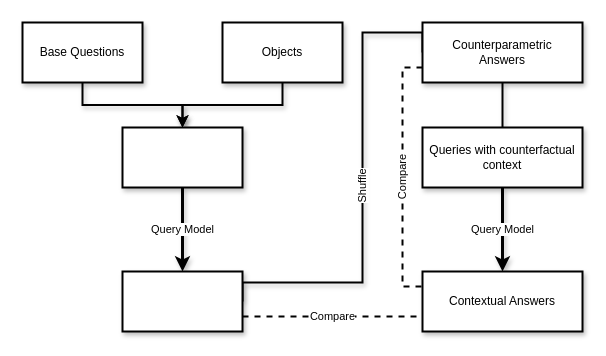
Some shapes in this 606 by 356 pixel diagram are drawn without their labels. The centre of each missing label's shape, as x and y in pixels:
"Parametric Answers" goes at point 183,302.
"Queries" goes at point 183,158.
